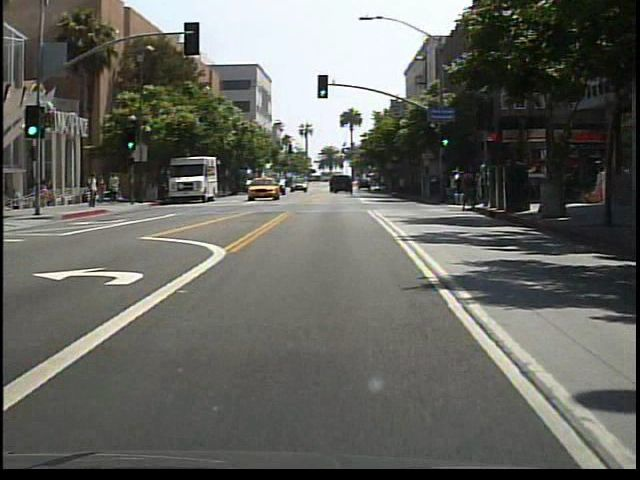person: (107, 170, 123, 205), (88, 172, 102, 210), (38, 179, 55, 210), (98, 175, 110, 205)
